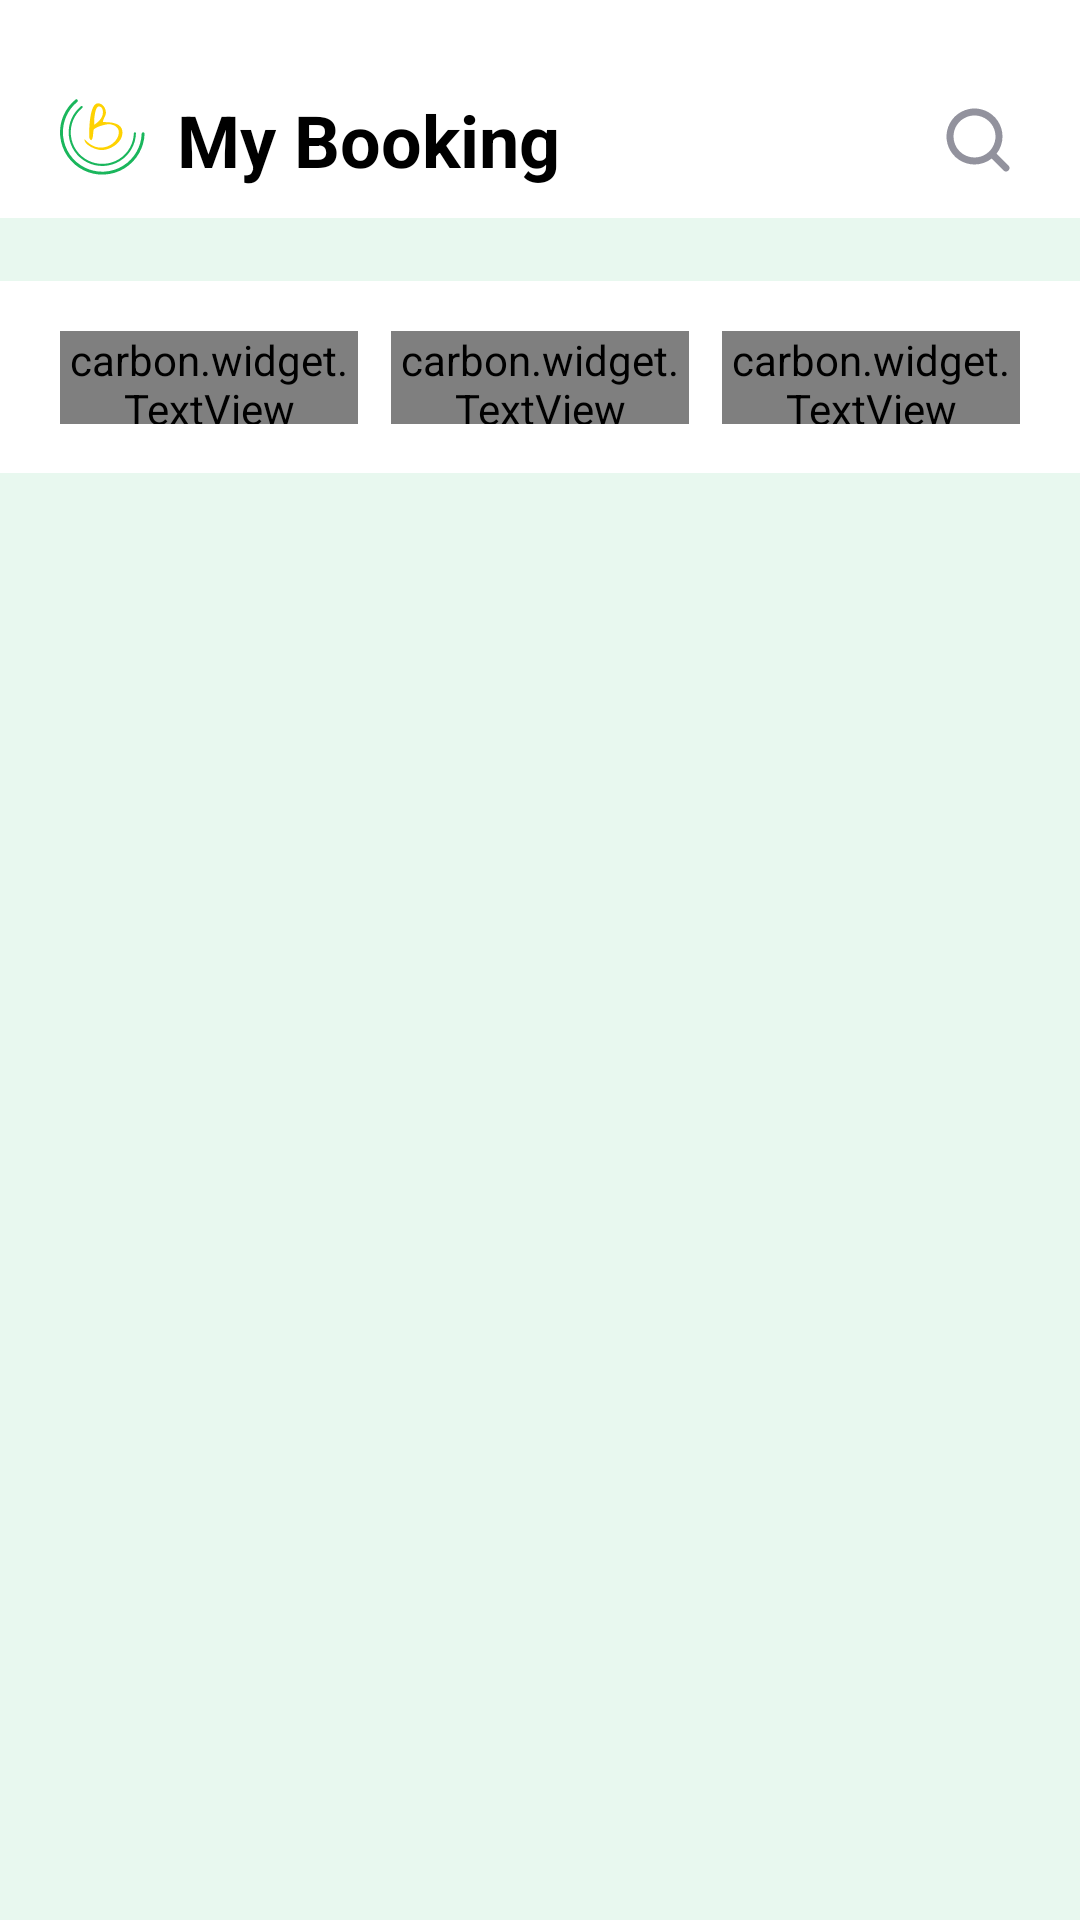

Locate icon controls on the screen. Image size 1080 × 1920, boxes as [left=x1, top=y1, right=x2, bottom=y2].
search: [left=946, top=108, right=1010, bottom=172]
